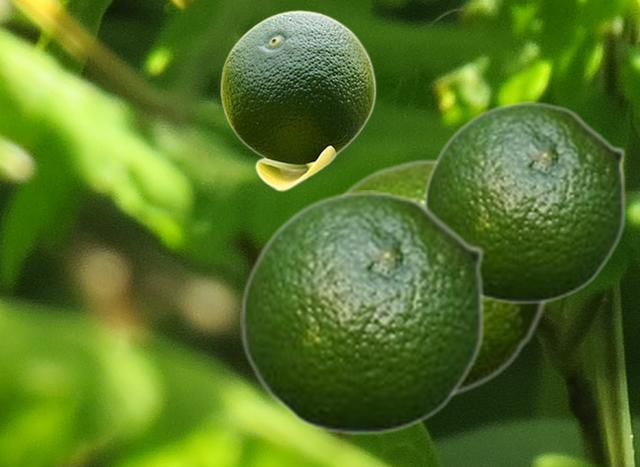calamansi: (240, 190, 485, 435), (336, 158, 546, 397), (423, 101, 626, 304), (220, 10, 375, 190)
